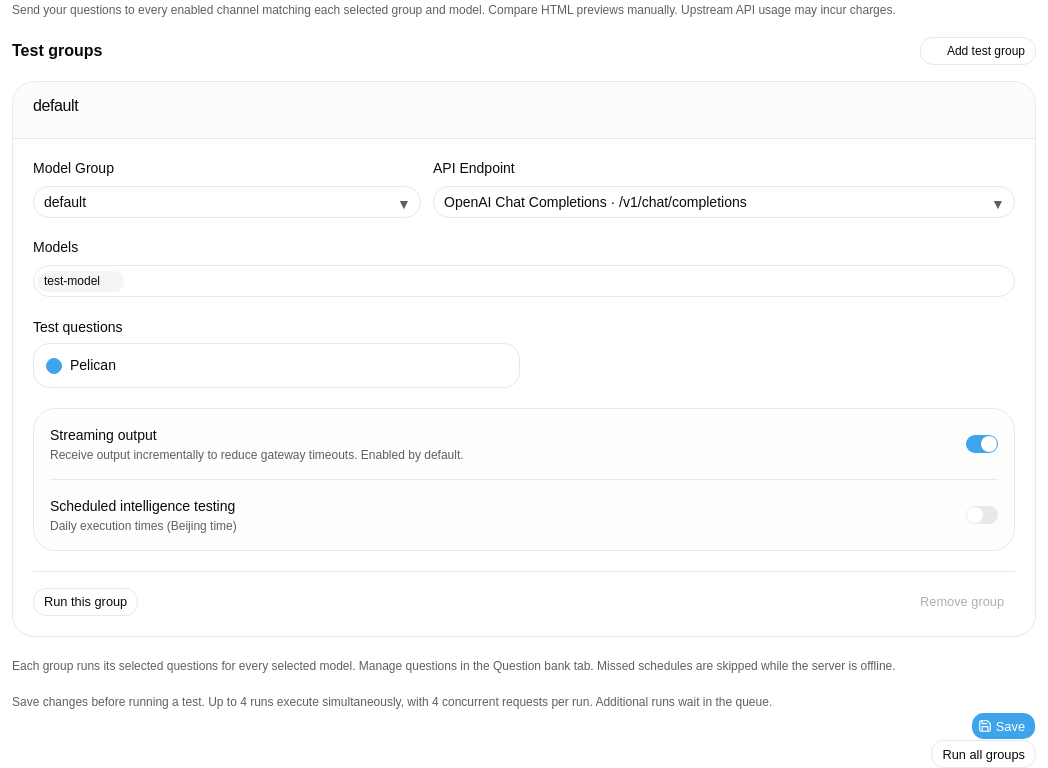
Test case: rejects an empty question or an out-of-range schedule without saving
(page scrolled)
Click the button "Save": coordinates (1003, 726) [971,712,1036,740]
(page scrolled)
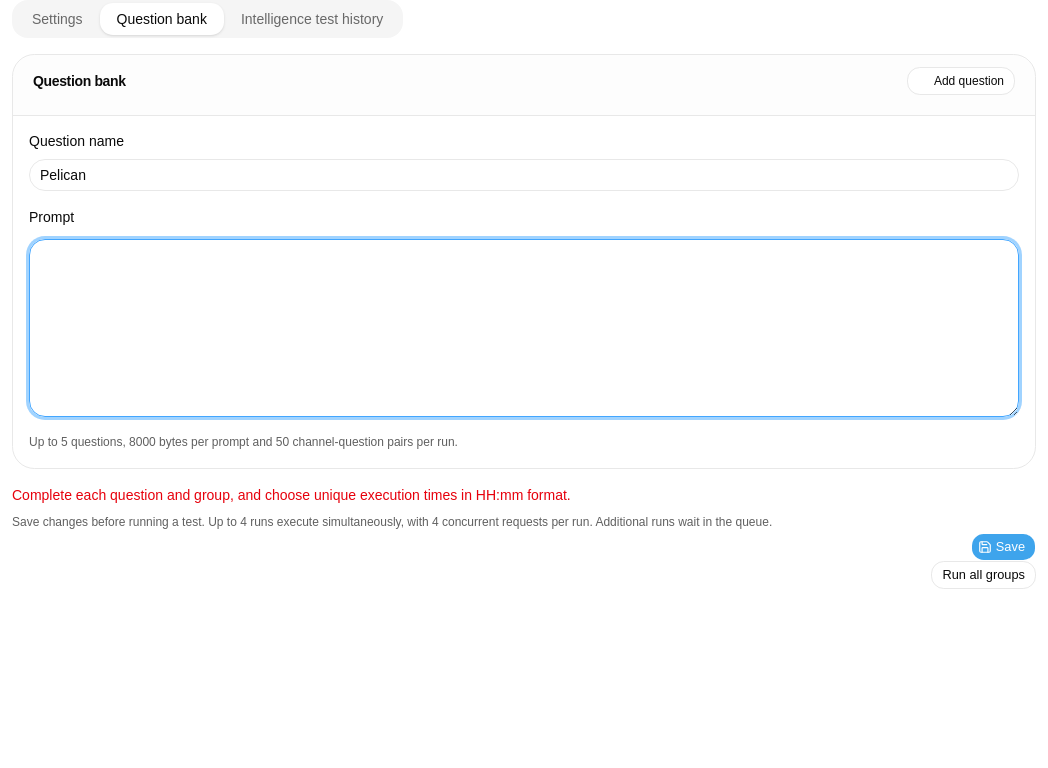
Check: the button "Run all groups" is enabled, box [932,560,1036,588]
Check: the message shows "Complete each question", box [12,487,571,503]
